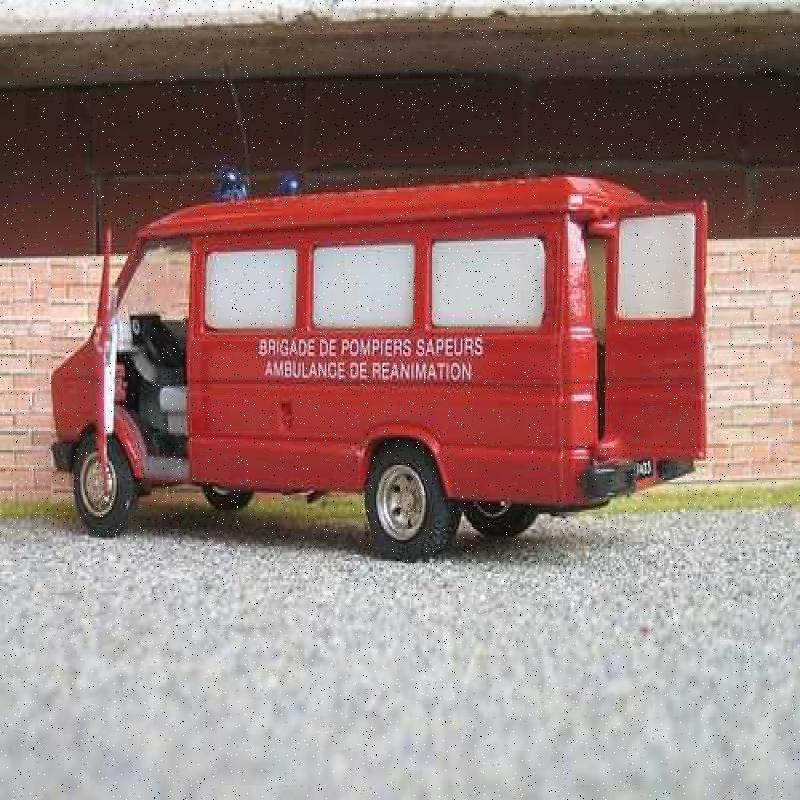AmbulanceSiren: (204, 150, 255, 211), (276, 160, 322, 201)
